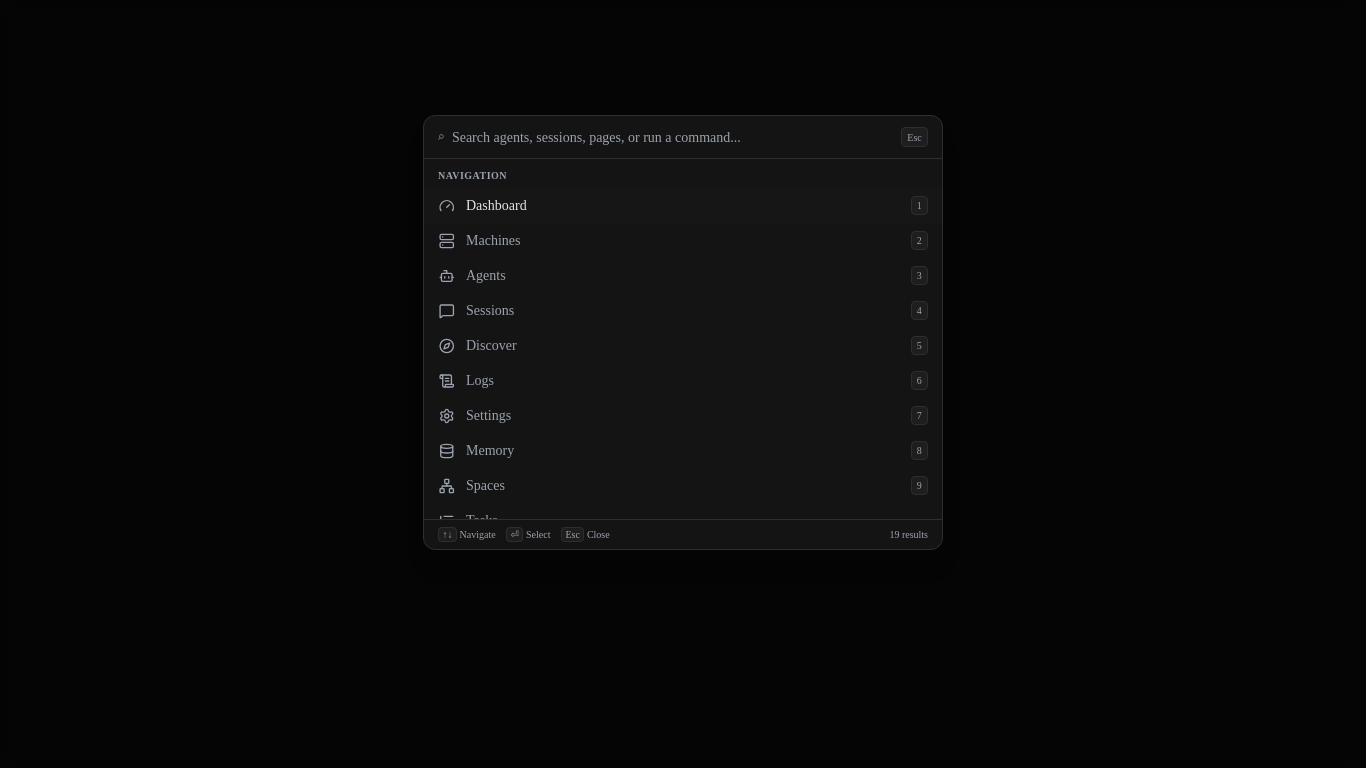
Test: CommandPalette › search matches agent project path
The image size is (1366, 768).
Type "important-project" into the field with placeholder "Search agents, sessions, pages, or run a command...".
click(673, 137); type("important-project")  # box [452, 127, 894, 148]
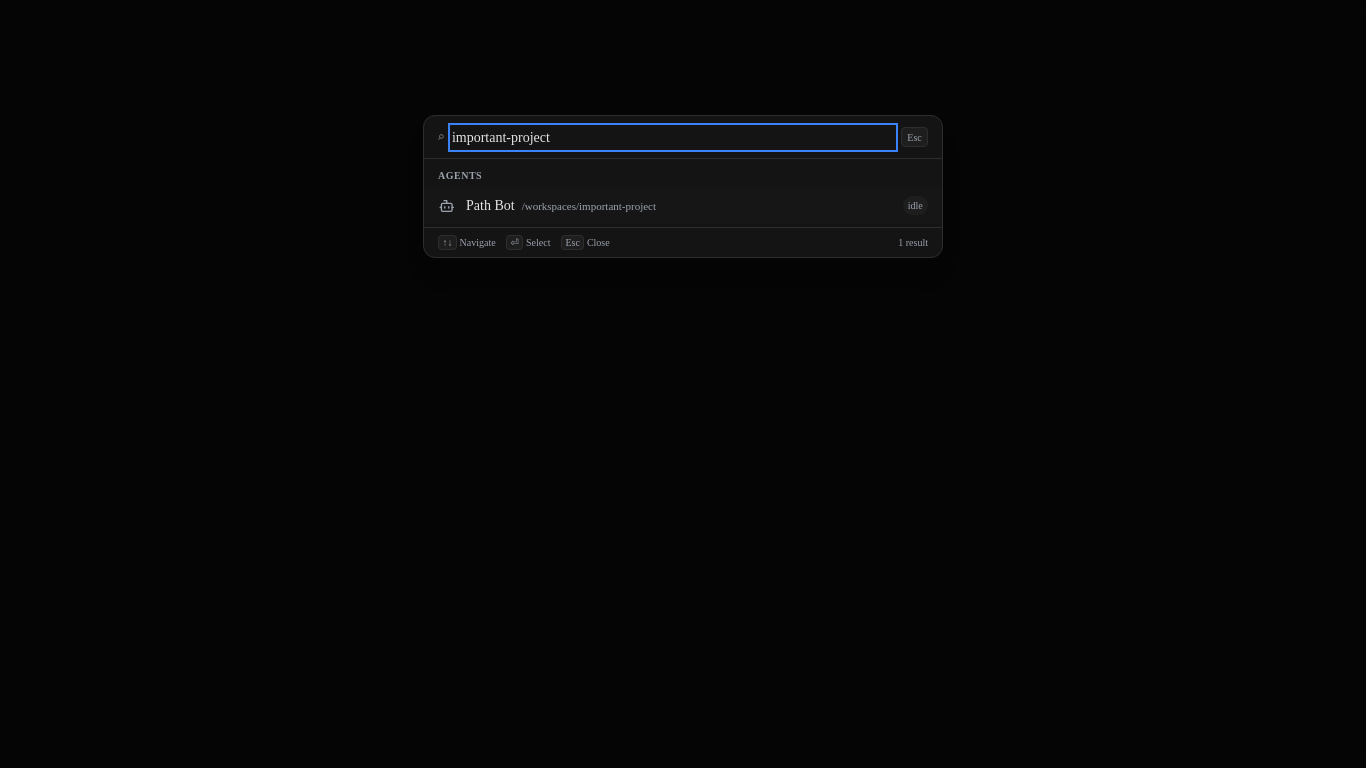
Expected: the text "Path Bot" is shown, [466, 198, 515, 213]
